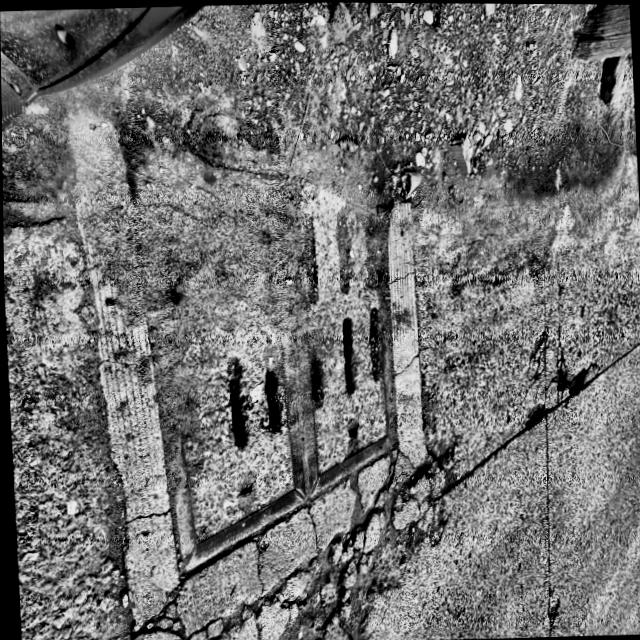clogged_drains: (85, 195, 426, 542), (80, 122, 156, 239)
